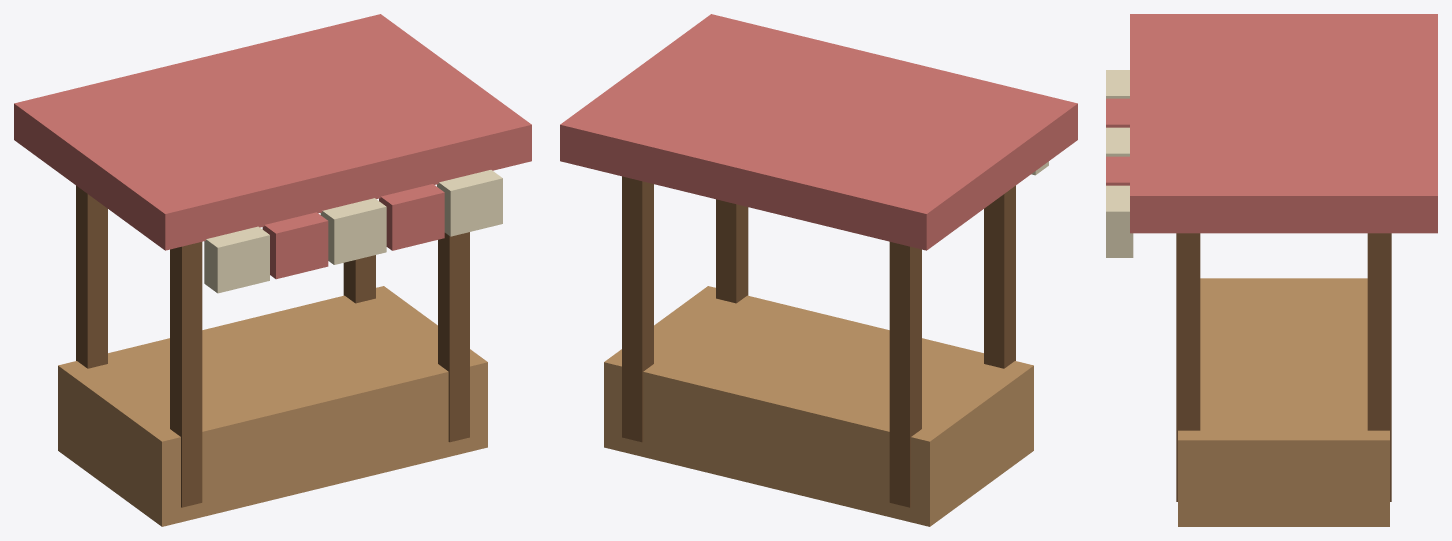
File: traderStall.glb
3 renders of one model, left to right at view 1: azimuth 30°, elevation 25°; view 2: azimuth 150°, elevation 25°; view 3: azimuth 270°, elevation 25°, orthographic.
Parts seen in each view (by area): view 1: StallCanopy, StallCounter, StallPost, StallPost.002, StallPost.001, StallValance, StallValance.001, StallValance.002, StallValance.003, StallValance.004, StallPost.003; view 2: StallCanopy, StallCounter, StallPost.001, StallPost.003, StallPost, StallPost.002; view 3: StallCanopy, StallCounter, StallPost.002, StallPost.003, StallValance.004, StallValance.001, StallValance.002, StallValance.003, StallValance.
Part boxes in pixels (x1,y1,x2,y2): StallCanopy: [14, 14, 531, 250]; StallCounter: [58, 286, 487, 526]; StallPost: [170, 242, 202, 507]; StallPost.002: [438, 232, 469, 442]; StallPost.001: [76, 185, 107, 368]; StallValance: [204, 226, 269, 293]; StallValance.001: [262, 212, 328, 279]; StallValance.002: [320, 198, 386, 264]; StallValance.003: [379, 184, 444, 250]; StallValance.004: [437, 170, 502, 236]; StallPost.003: [343, 255, 375, 303]; StallCanopy: [560, 14, 1077, 250]; StallCounter: [604, 286, 1033, 526]; StallPost.001: [889, 242, 921, 507]; StallPost.003: [622, 176, 653, 442]; StallPost: [984, 185, 1015, 368]; StallPost.002: [716, 199, 748, 303]; StallCanopy: [1130, 14, 1437, 233]; StallCounter: [1178, 278, 1389, 526]; StallPost.002: [1176, 233, 1200, 501]; StallPost.003: [1367, 233, 1391, 501]; StallValance.004: [1106, 185, 1133, 257]; StallValance.001: [1106, 98, 1129, 127]; StallValance.002: [1106, 127, 1129, 156]; StallValance.003: [1106, 156, 1129, 185]; StallValance: [1106, 70, 1129, 98].
Size of the model in its own units: 1.26 by 1.1 by 0.97.
